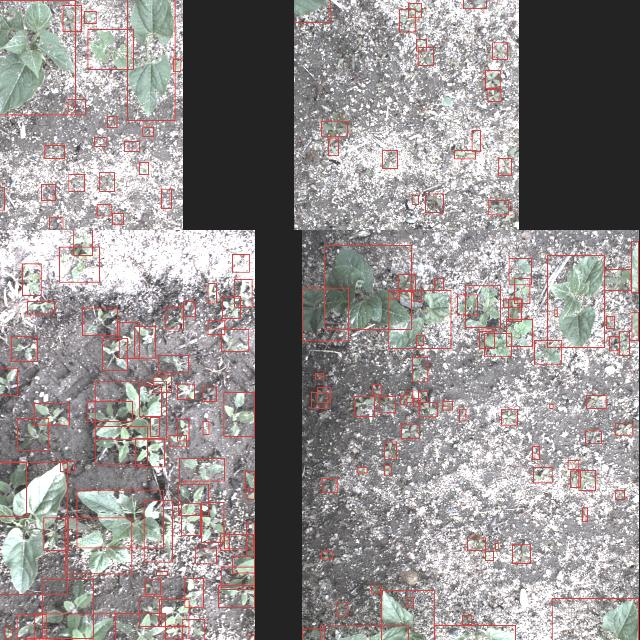crop: (0, 462, 67, 594), (0, 1, 75, 115), (324, 245, 412, 329), (127, 0, 175, 121), (548, 255, 604, 347), (76, 490, 164, 548), (65, 518, 132, 574), (551, 598, 638, 640), (389, 290, 451, 348), (381, 590, 434, 640), (302, 288, 348, 340), (88, 29, 134, 69), (144, 500, 172, 562), (434, 624, 515, 640), (457, 295, 477, 315), (632, 242, 638, 292), (632, 312, 638, 341)
weed: (95, 382, 167, 438), (42, 580, 92, 638), (34, 613, 115, 640), (94, 426, 148, 464), (59, 246, 99, 282), (0, 461, 26, 516), (466, 286, 500, 328), (223, 392, 254, 436), (115, 613, 165, 640), (82, 308, 118, 336), (17, 418, 48, 450), (180, 459, 224, 481), (179, 484, 209, 516), (88, 401, 132, 421), (202, 502, 224, 542), (219, 584, 255, 608), (136, 438, 164, 468), (102, 338, 128, 370), (159, 600, 189, 626), (44, 518, 68, 550), (221, 567, 255, 589), (119, 322, 139, 358), (16, 614, 46, 638), (507, 319, 533, 346), (134, 327, 156, 358), (34, 404, 68, 424), (11, 336, 37, 362), (534, 340, 562, 364), (139, 386, 161, 416), (140, 596, 162, 626), (508, 259, 532, 285), (484, 334, 512, 356), (181, 504, 201, 534), (222, 329, 248, 351), (184, 578, 203, 608), (604, 270, 632, 290), (22, 264, 40, 294), (62, 5, 82, 31), (234, 279, 252, 307), (182, 619, 205, 640), (158, 356, 188, 372), (0, 368, 17, 396), (73, 230, 92, 255), (224, 534, 253, 550), (321, 120, 347, 136), (514, 278, 530, 304), (354, 396, 374, 416), (223, 296, 241, 318), (233, 556, 255, 574), (26, 300, 54, 314), (400, 8, 416, 32), (412, 358, 428, 382), (166, 308, 184, 328), (578, 470, 596, 490), (513, 544, 531, 564), (196, 548, 217, 564), (425, 194, 443, 212), (232, 254, 250, 272), (398, 274, 416, 292), (418, 46, 434, 66), (418, 402, 438, 418), (508, 299, 522, 321), (69, 174, 85, 192), (68, 99, 86, 115), (382, 150, 398, 168), (153, 376, 171, 392), (165, 626, 189, 638), (310, 392, 328, 408), (45, 145, 65, 159), (100, 172, 114, 192), (489, 200, 509, 214), (492, 42, 508, 59), (178, 384, 195, 400), (247, 523, 255, 557), (177, 419, 189, 441), (40, 184, 56, 200), (501, 409, 517, 425), (379, 396, 395, 412), (486, 70, 500, 88), (498, 158, 512, 176), (208, 321, 226, 335), (401, 424, 419, 438), (534, 468, 552, 482), (302, 629, 324, 640), (586, 396, 606, 408), (620, 331, 630, 355), (408, 2, 422, 18), (480, 332, 494, 348), (454, 150, 476, 160), (467, 538, 485, 550), (586, 431, 602, 444), (463, 0, 486, 9), (170, 435, 187, 447), (161, 189, 171, 209), (472, 130, 481, 152), (488, 88, 502, 102), (203, 387, 217, 401), (146, 580, 160, 594), (322, 478, 336, 492), (183, 301, 195, 317), (384, 442, 396, 458), (150, 418, 160, 437), (503, 298, 522, 308), (316, 388, 329, 402), (328, 138, 338, 156), (615, 424, 633, 434), (49, 218, 63, 230), (97, 204, 111, 216), (336, 602, 348, 616), (124, 141, 140, 151), (208, 283, 216, 303), (245, 472, 255, 488), (220, 534, 230, 550), (610, 336, 620, 352), (570, 471, 580, 487), (84, 11, 96, 23), (60, 461, 74, 471), (112, 213, 124, 224), (139, 162, 149, 174), (107, 116, 117, 128), (417, 39, 427, 51), (412, 290, 422, 302), (434, 278, 444, 290), (532, 446, 540, 459), (143, 127, 153, 137), (418, 392, 428, 402), (568, 460, 578, 470), (615, 490, 625, 500), (462, 615, 472, 625), (173, 59, 181, 71), (94, 138, 106, 146), (606, 316, 614, 328), (458, 409, 466, 421), (442, 402, 452, 411), (372, 384, 381, 394), (582, 508, 588, 522), (4, 628, 12, 638), (416, 335, 424, 345), (405, 597, 413, 607), (203, 422, 209, 434), (156, 570, 168, 576), (412, 398, 420, 407), (384, 465, 391, 475), (399, 394, 406, 404), (321, 552, 332, 558), (246, 491, 254, 499), (485, 552, 493, 560), (357, 467, 367, 473), (370, 586, 380, 592), (407, 392, 413, 402), (412, 196, 418, 204), (315, 373, 323, 379), (393, 294, 399, 300), (249, 635, 254, 640), (555, 310, 557, 316), (496, 543, 498, 549), (550, 404, 552, 408)
